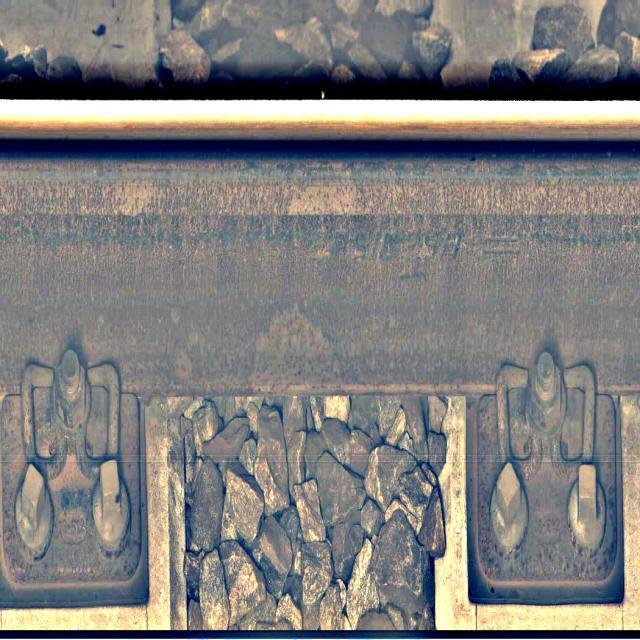Good Fasteners: (471, 351, 621, 604), (0, 350, 146, 605)
